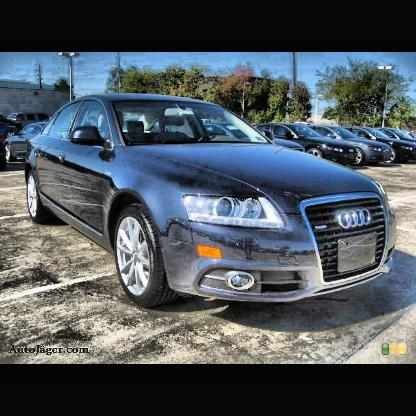Audi S6 Sedan 2011: (26, 96, 397, 309)
